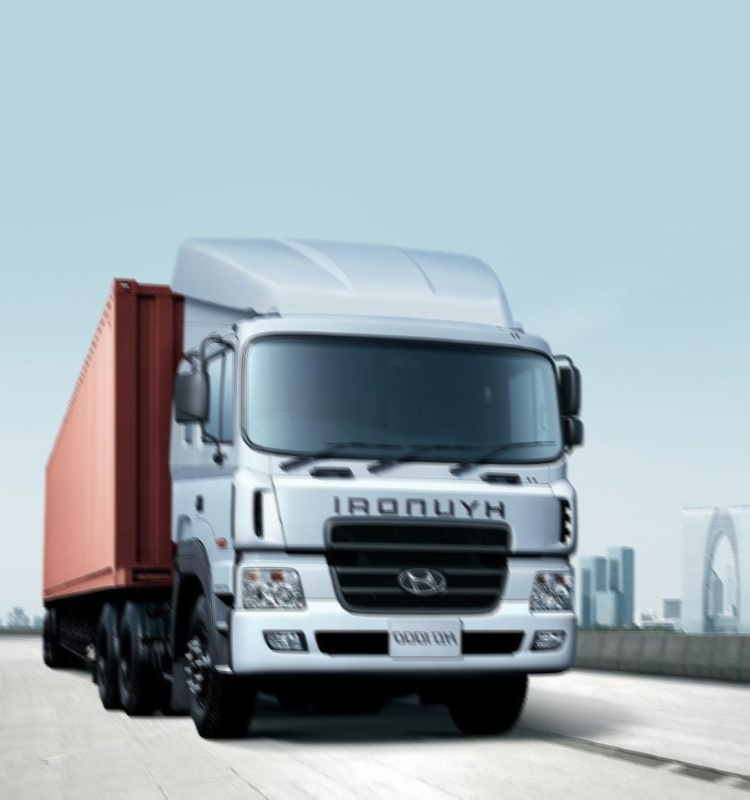truck: (50, 229, 578, 743)
